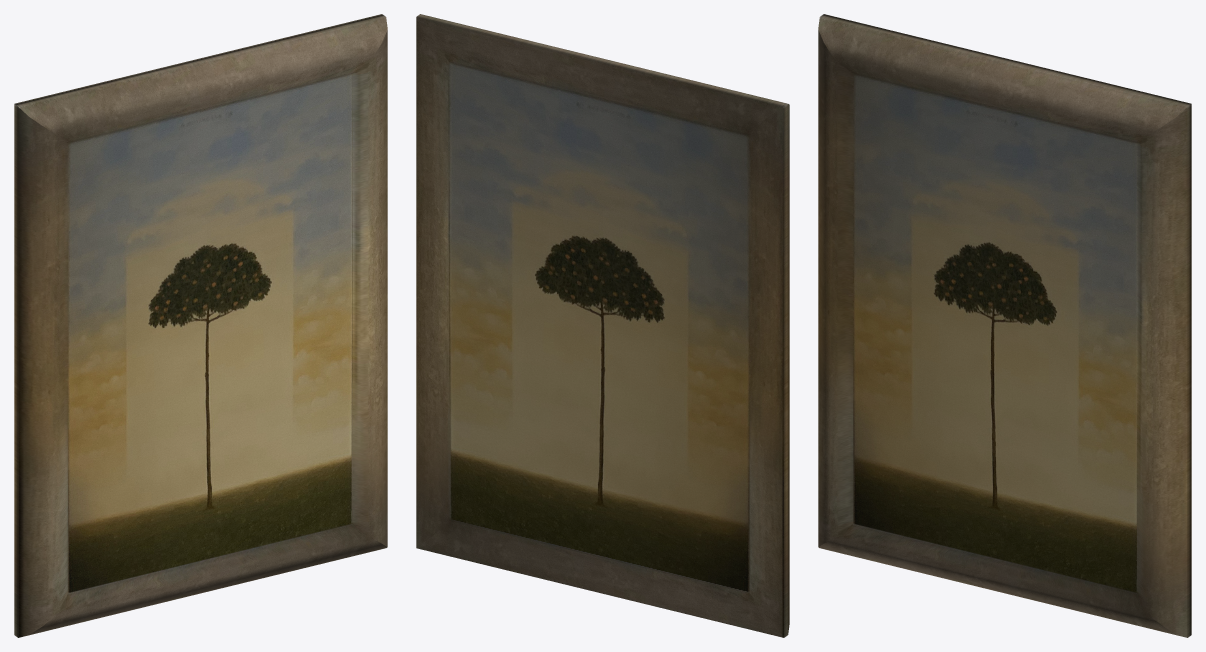
Rendered from photoframe5.glb.
3 renders of one model, left to right at view 1: azimuth 30°, elevation 25°; view 2: azimuth 150°, elevation 25°; view 3: azimuth 330°, elevation 25°, orthographic.
Visible parts, largest first — view 1: Cube_3; view 2: Cube_3; view 3: Cube_3.
Part boxes in pixels (x1,y1,x2,y2): Cube_3: (14, 14, 387, 637); Cube_3: (416, 14, 789, 637); Cube_3: (818, 14, 1191, 637).
Bounding box in the file's own units: 34.56 × 47.68 × 2.59.
1 material, 1 textured.
